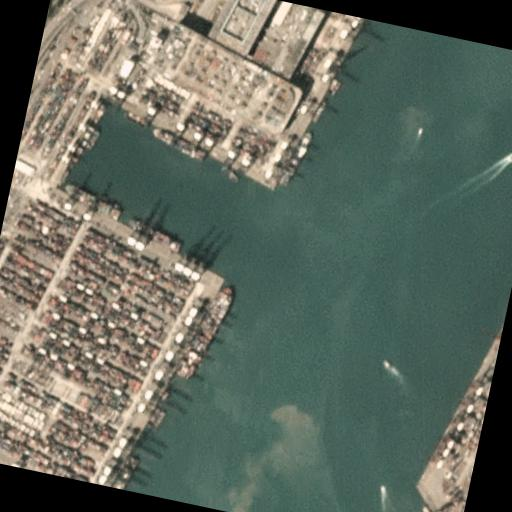ship: (174, 277, 237, 383), (59, 182, 123, 220), (276, 125, 314, 189), (124, 216, 186, 253), (148, 124, 208, 161), (364, 18, 414, 49), (152, 408, 166, 428), (416, 502, 440, 512), (380, 356, 390, 368), (377, 483, 387, 494), (505, 150, 512, 162), (416, 125, 422, 133)
